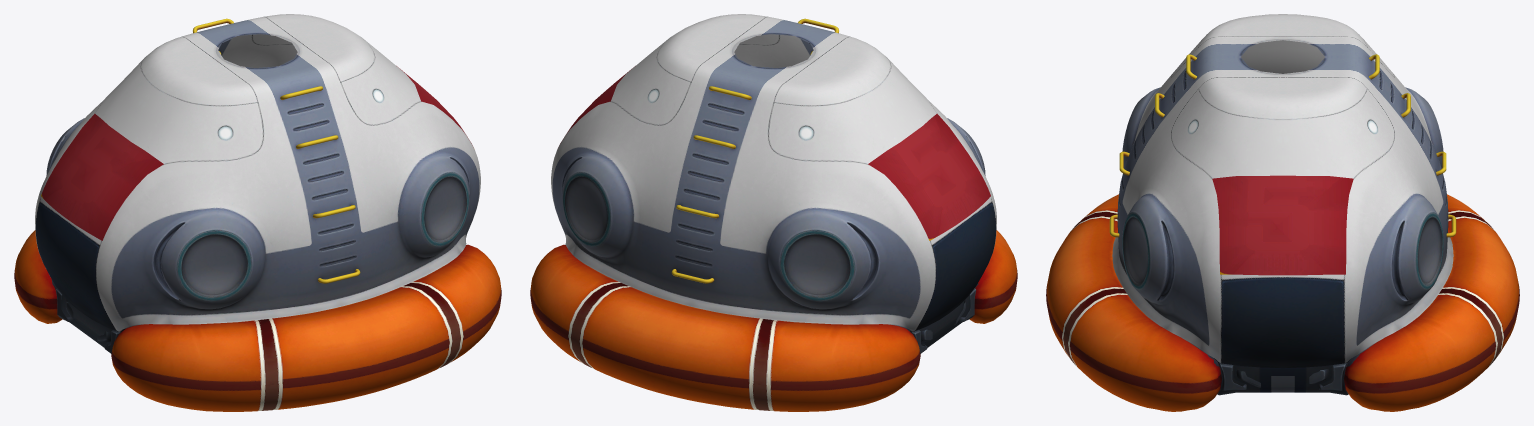
The model's file is Life_Pod_Model.fbx.
3 views of the same model, side by side, from view 1: azimuth 30°, elevation 25°; view 2: azimuth 150°, elevation 25°; view 3: azimuth 270°, elevation 25° (orthographic). The views are drawn at different scales.
Parts seen in each view (by area): view 1: LifePod, Pontoons, Decals; view 2: LifePod, Pontoons, Decals; view 3: LifePod, Pontoons, Decals.
Boxes of the visible parts, x1,y1,x2,y2 form: LifePod: (35,14,480,353); Pontoons: (14,230,501,411); Decals: (41,66,473,240); LifePod: (551,14,996,353); Pontoons: (530,230,1017,411); Decals: (558,66,990,240); LifePod: (1109,14,1456,395); Pontoons: (1046,194,1519,411); Decals: (1212,175,1353,275).
Size of the model in its own units: 1.11 by 0.7286 by 1.12.
Materials: 4 (4 with a texture image).
